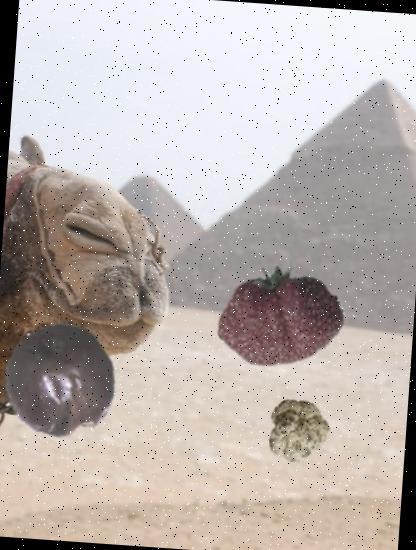Cauliflower: (262, 396, 330, 465)
Passion: (0, 320, 123, 446)
Strawberry: (212, 250, 344, 382)
